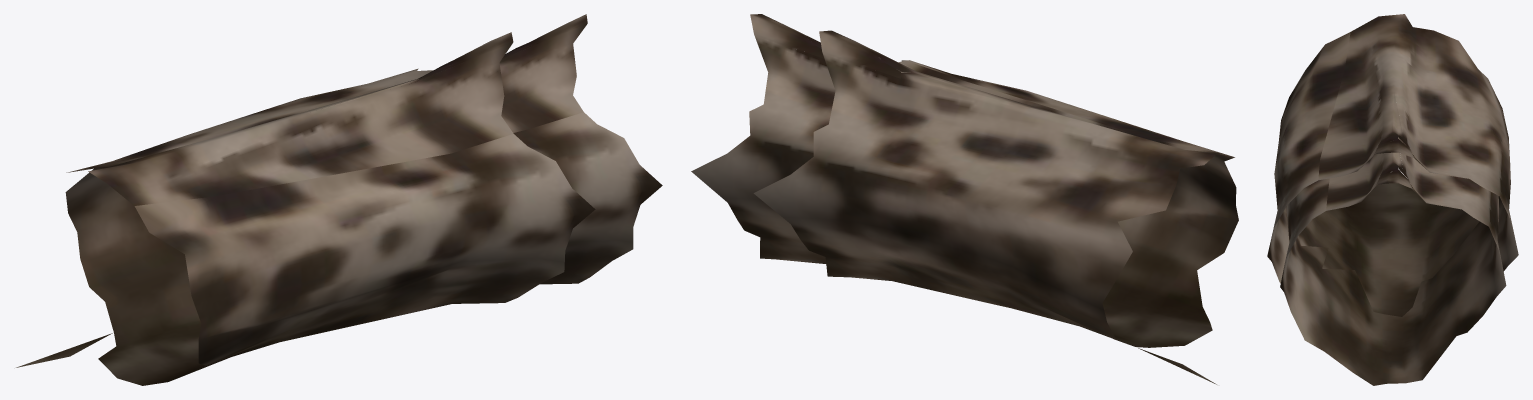
Rendered from medio.obj.
3 renders of one model, left to right at view 1: azimuth 30°, elevation 25°; view 2: azimuth 150°, elevation 25°; view 3: azimuth 270°, elevation 25°, orthographic. The views are drawn at different scales.
Parts seen in each view (by area): view 1: cola; view 2: cola; view 3: cola.
Boxes of the visible parts, x1,y1,x2,y2 form: cola: [16, 14, 662, 385]; cola: [691, 14, 1238, 384]; cola: [1267, 14, 1518, 385].
Size of the model in its own units: 0.14 by 0.0625 by 0.0667.
Materials: 1 (1 with a texture image).
